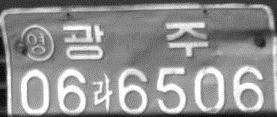0: (193, 65, 225, 115), (19, 68, 50, 115)
5: (155, 66, 187, 114)
6: (232, 64, 264, 113), (55, 67, 85, 115), (117, 67, 147, 115)
광주_D: (61, 20, 209, 61)
라: (91, 72, 113, 114)
영: (19, 24, 55, 62)
